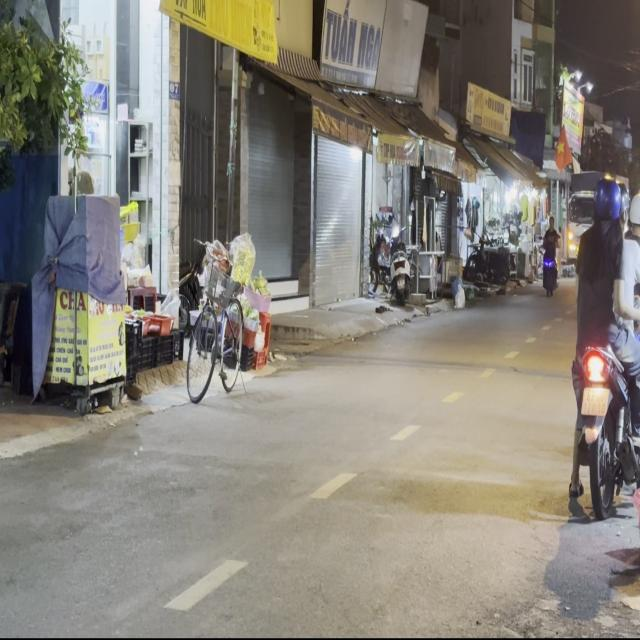helmet: (590, 177, 622, 226), (627, 190, 640, 237)
licenseplate: (561, 174, 640, 519)
nohelmet: (581, 386, 608, 414)
